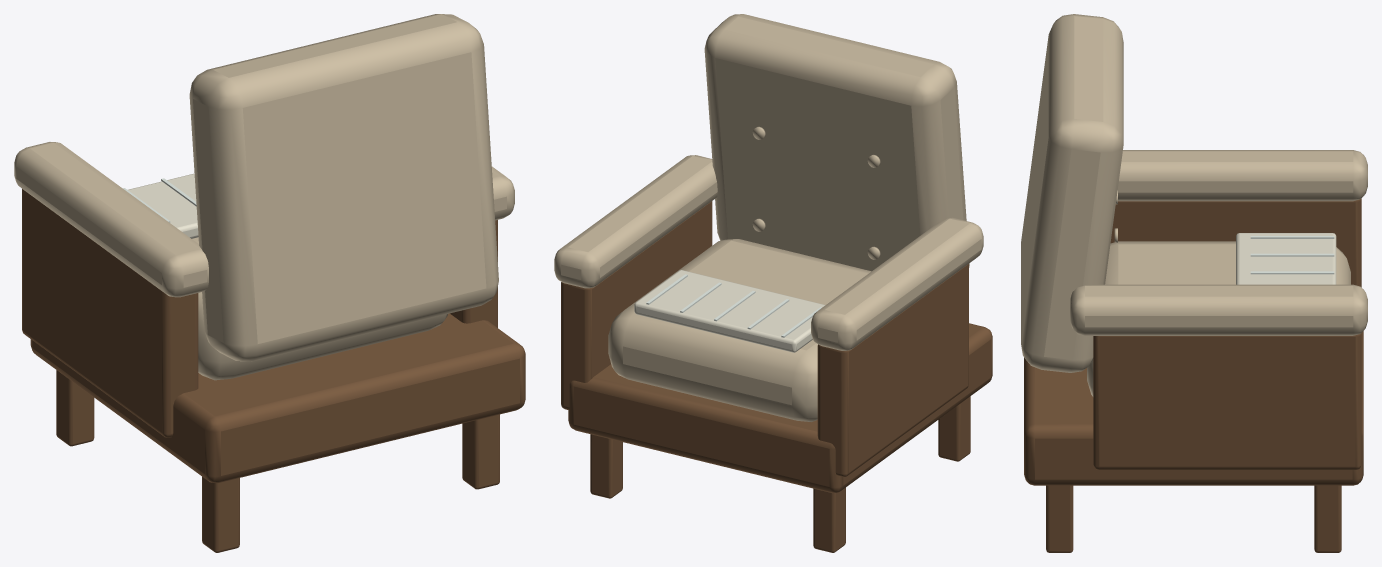
Rendered from rest_armchair.glb.
3 views of the same model, side by side, from view 1: azimuth 30°, elevation 25°; view 2: azimuth 150°, elevation 25°; view 3: azimuth 270°, elevation 25° (orthographic). The views are drawn at different scales.
Visible parts, largest first — view 1: rest_armchair_render_mesh; view 2: rest_armchair_render_mesh; view 3: rest_armchair_render_mesh.
Part boxes in pixels (x1,y1,x2,y2): rest_armchair_render_mesh: (14, 14, 525, 552); rest_armchair_render_mesh: (554, 14, 992, 552); rest_armchair_render_mesh: (1021, 14, 1367, 552).
Bounding box in the file's own units: 0.89 × 1.11 × 0.8273.
